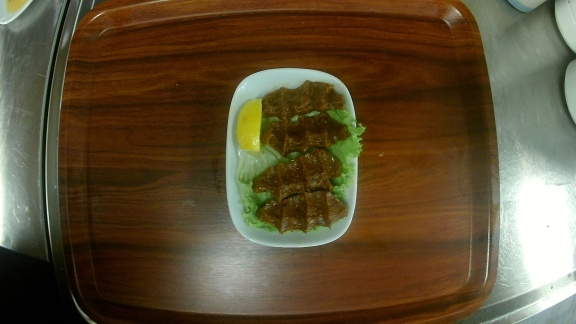cigkofte: (225, 67, 360, 248)
